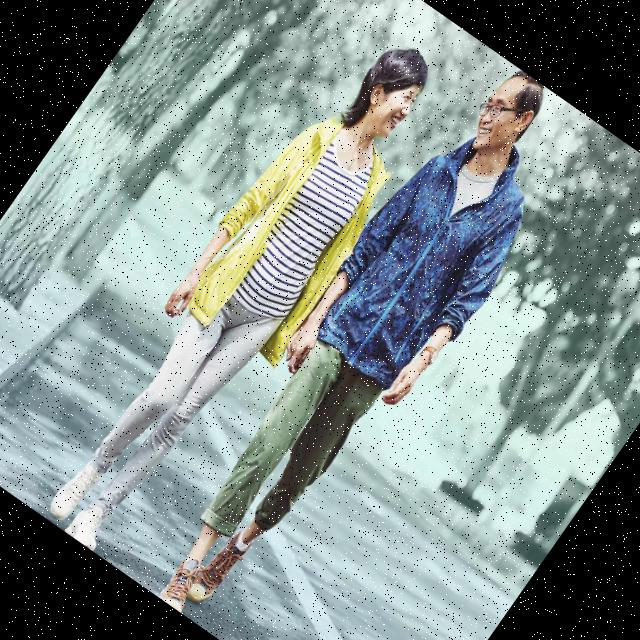Person: (122, 48, 605, 640), (21, 11, 468, 574)
